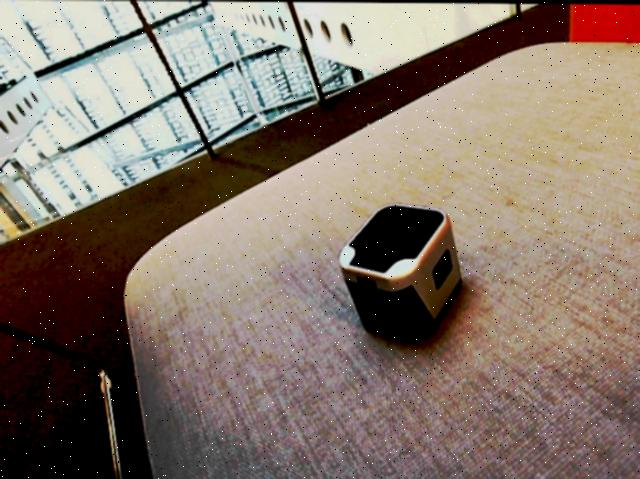adapter: (338, 202, 462, 343)
